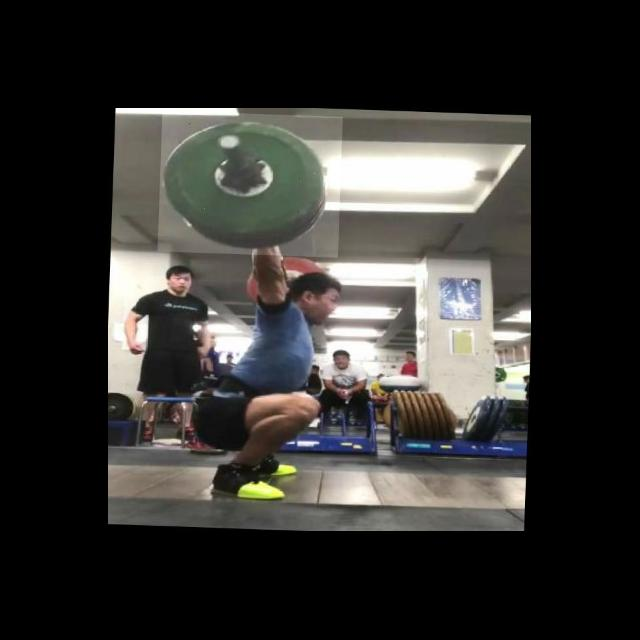barbell: (158, 111, 343, 258)
